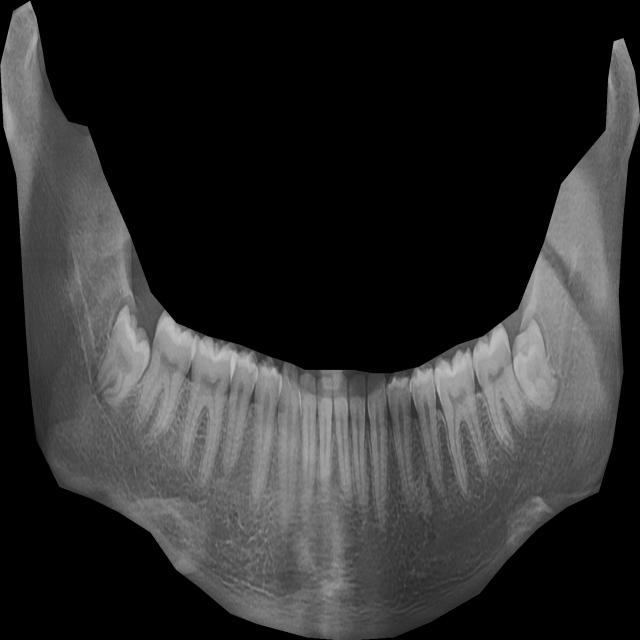mandibula: (0, 1, 640, 640)
